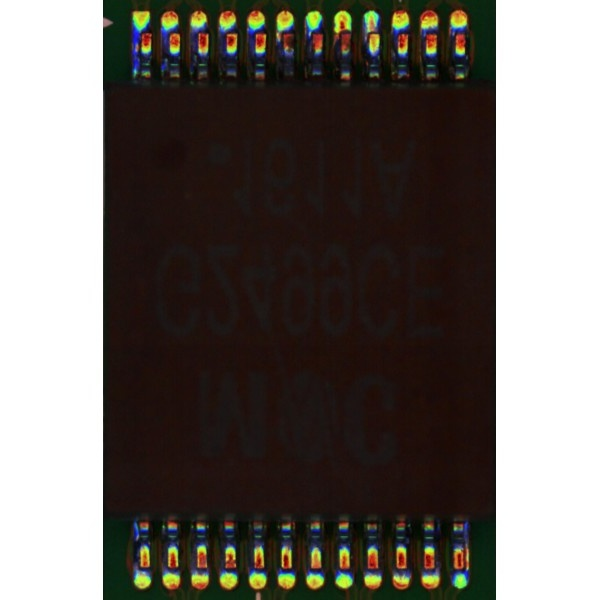Bad_podu: (369, 25, 377, 42), (339, 23, 348, 37)
Bad_qiaojiao: (464, 523, 470, 571), (133, 33, 139, 76)
